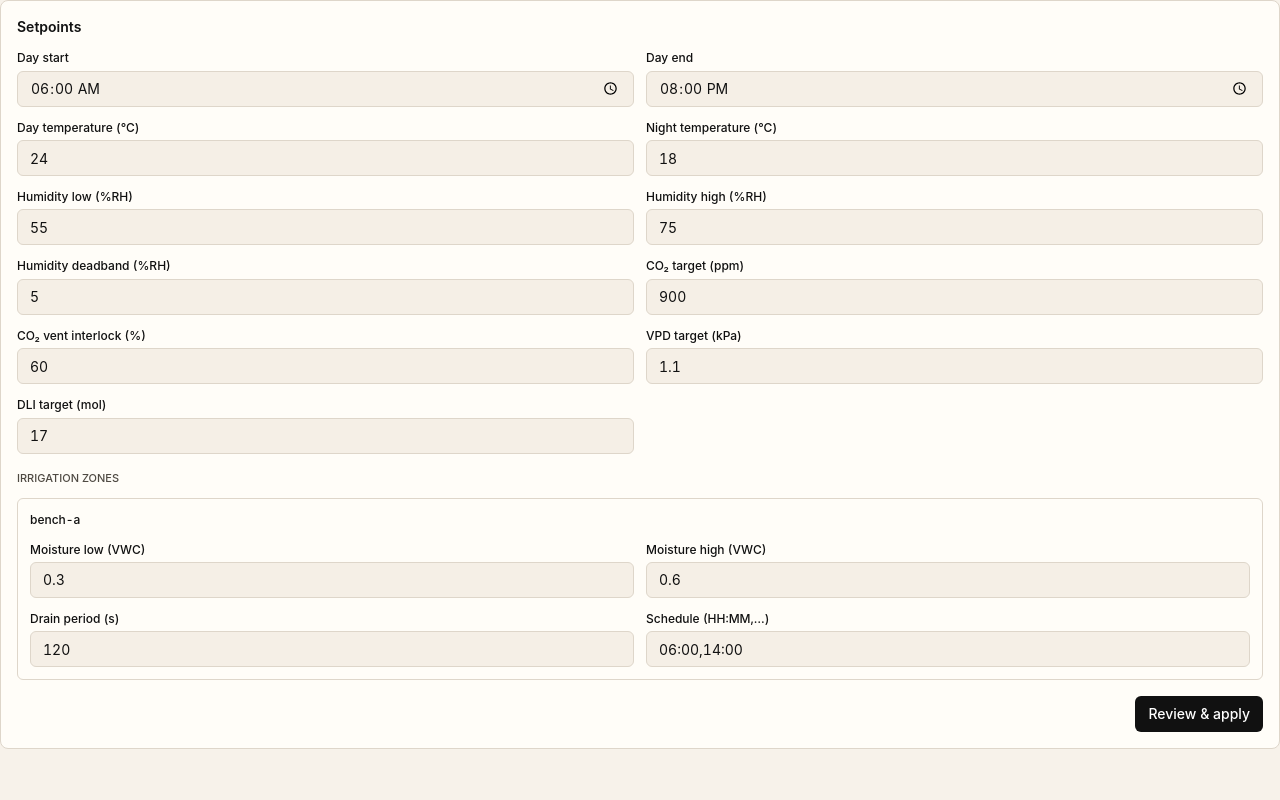
SetpointEditForm › blocks an invalid cross-field edit and keeps the confirmation closed
This screenshot has width=1280, height=800.
Replace the text in the time field labelled "Day end" with "05:00": (954, 89) [646,71,1263,107]
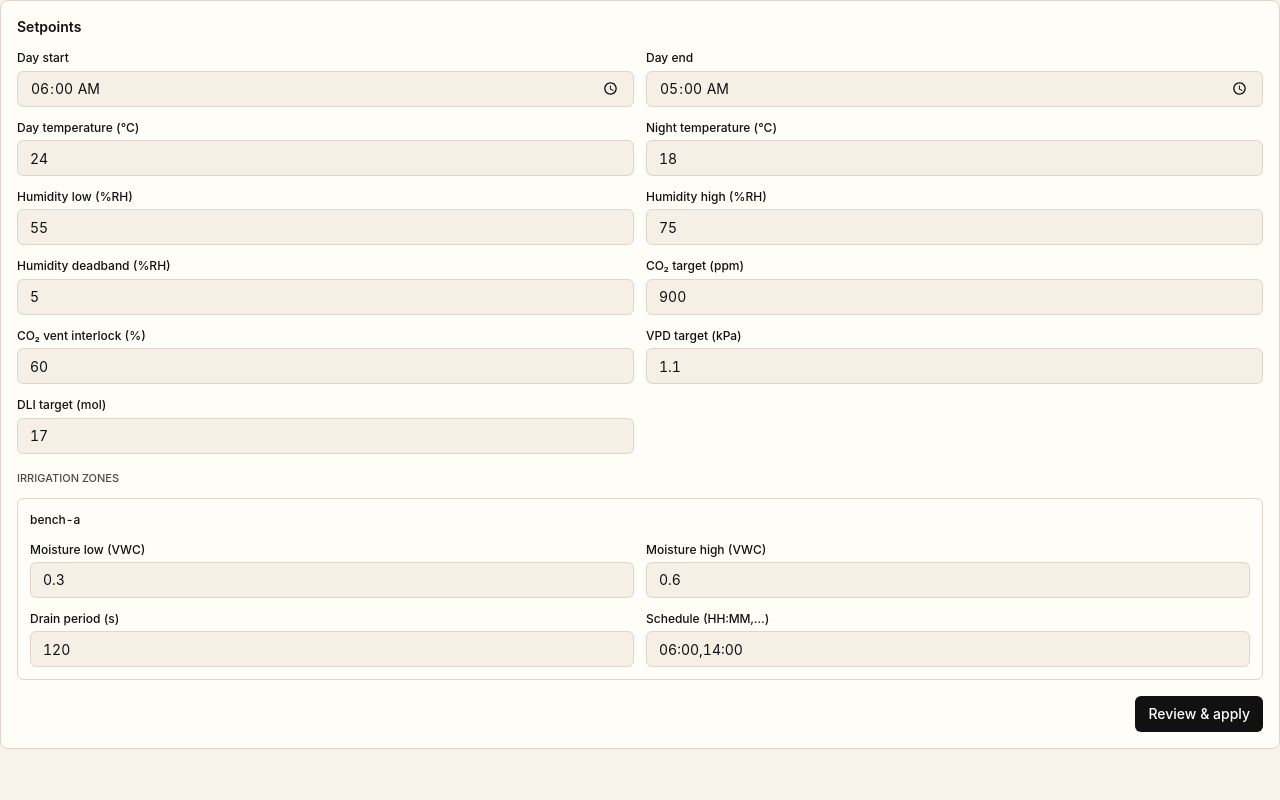
Submit the form labelled "Day end"
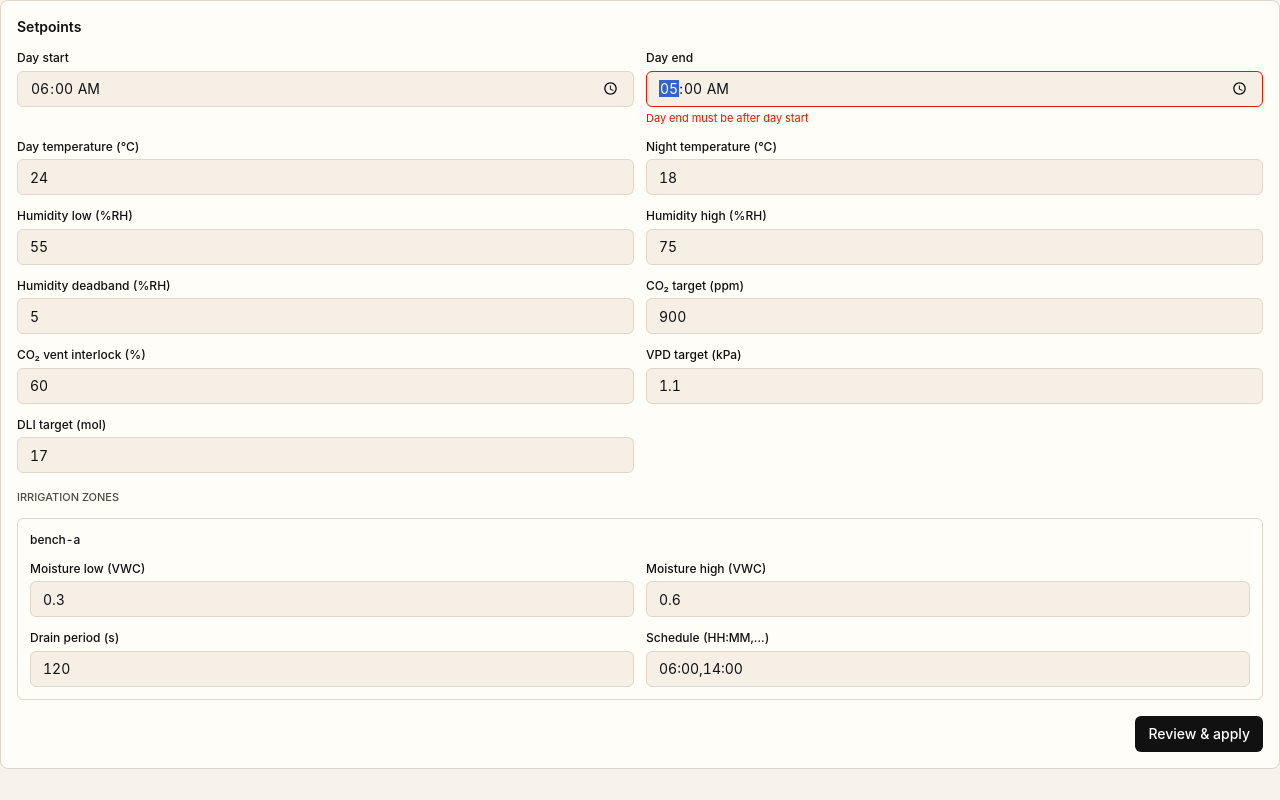
Now the text "Day end must be after day start" is shown, box [646,111,809,125]
